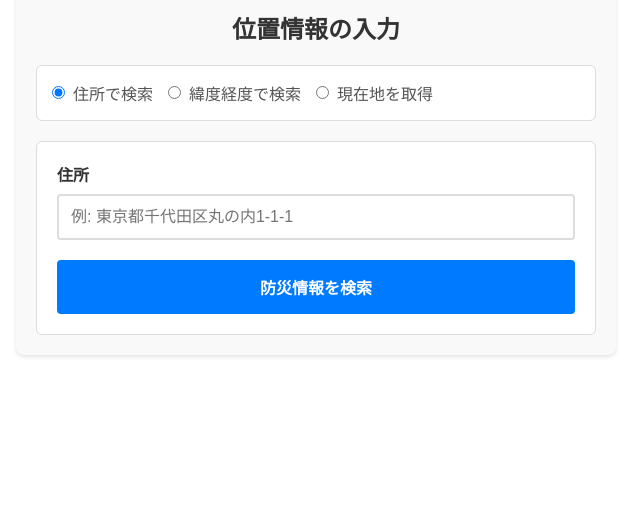
LocationInputComponent › 入力方式の切り替え › 緯度経度入力に切り替えできる
Click the radio button labelled "緯度経度で検索": {"x": 174, "y": 93} [168, 86, 181, 99]
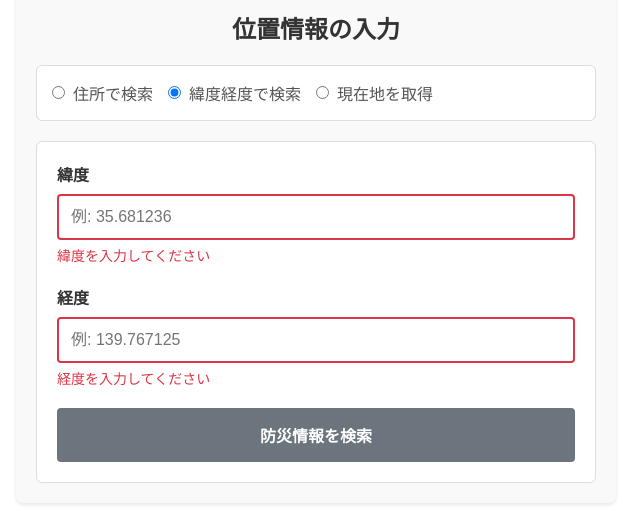
Now the radio button labelled "緯度経度で検索" is checked, box [168, 86, 181, 99]
Now the number field labelled "緯度" is shown, box [57, 194, 575, 240]
Now the number field labelled "経度" is shown, box [57, 317, 575, 363]
